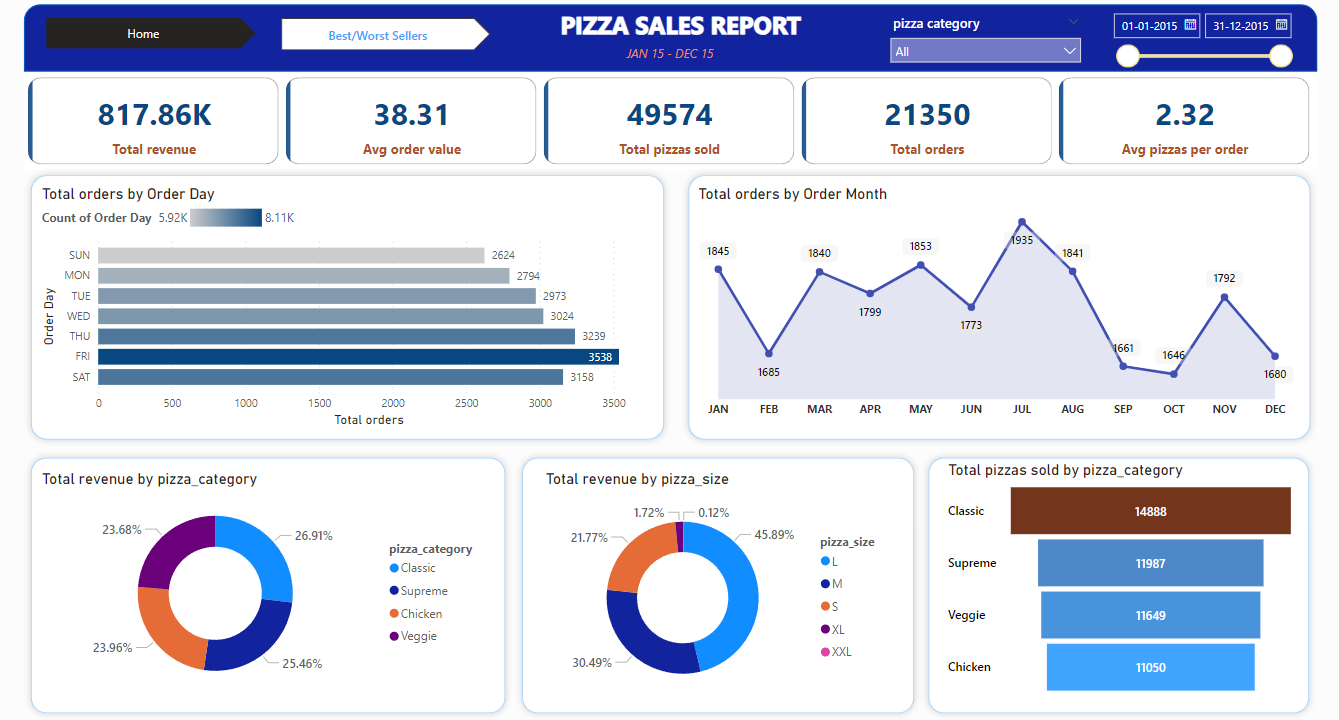

Layout of this report page (visuals, bound fields, positions):
{"tool":"powerbi","page":{"name":"Home","canvas":[1500,820],"ordinal":0},"visuals":[{"type":"cardVisual","fields":{"Data":["pizza_sales.Total revenue","pizza_sales.Avg order value","pizza_sales.Total pizzas sold","pizza_sales.Total orders","pizza_sales.Avg pizzas per order"]},"box":[32,89.1,1440.9,107.2],"z":1000},{"type":"shape","box":[32,12.5,1440.9,75.2],"z":2000},{"type":"textbox","box":[607,12.5,313.2,50.1],"z":3000},{"type":"textbox","box":[693.3,52.9,121.1,34.8],"z":4000},{"type":"shape","box":[32,194.9,721.2,310.5],"z":5000},{"type":"shape","box":[764.3,194.9,708.6,310.5],"z":6000},{"type":"clusteredBarChart","fields":{"Category":["pizza_sales.Order Day"],"Y":["pizza_sales.Total orders"]},"box":[47.3,213,689.1,275.7],"z":7000},{"type":"areaChart","fields":{"Category":["pizza_sales.Order Month"],"Y":["pizza_sales.Total orders"]},"box":[778.2,213,675.2,268.7],"z":8000},{"type":"shape","box":[32,509.5,544.3,300.7],"z":9000},{"type":"shape","box":[579.2,509.5,452.5,300.7],"z":10000},{"type":"shape","box":[1031.6,509.5,439.9,300.7],"z":11000},{"type":"donutChart","fields":{"Category":["pizza_sales.pizza_category"],"Y":["pizza_sales.Total revenue"]},"box":[47.3,530.4,505.4,257.6],"z":12000},{"type":"donutChart","fields":{"Category":["pizza_sales.pizza_size"],"Y":["pizza_sales.Total revenue"]},"box":[608.4,530.4,395.4,267.3],"z":13000},{"type":"funnel","fields":{"Category":["pizza_sales.pizza_category"],"Y":["pizza_sales.Total pizzas sold"]},"box":[1056.7,520.7,396.8,267.3],"z":14000},{"type":"slicer","fields":{"Values":["pizza_sales.pizza_category"]},"box":[987.1,18.1,232.5,65.4],"z":17000},{"type":"slicer","fields":{"Values":["pizza_sales.order_date"]},"box":[1233.5,12.5,220,75.2],"z":18000},{"type":"pageNavigator","box":[57.1,27.8,233.9,34.8],"z":19000},{"type":"pageNavigator","box":[318.8,27.8,233.9,36.2],"z":20000}]}

Visuals, with their boxes in screenshot pixels (x1, y1, x2, y2), scaled from the page's 1500x820 canvas onto the 1339x720 screenshot:
cardVisual - pizza_sales.Total revenue x pizza_sales.Avg order value: x1=29 y1=78 x2=1315 y2=172
shape: x1=29 y1=11 x2=1315 y2=77
textbox: x1=542 y1=11 x2=821 y2=55
textbox: x1=619 y1=46 x2=727 y2=77
shape: x1=29 y1=171 x2=672 y2=444
shape: x1=682 y1=171 x2=1315 y2=444
clusteredBarChart - pizza_sales.Order Day x pizza_sales.Total orders: x1=42 y1=187 x2=657 y2=429
areaChart - pizza_sales.Order Month x pizza_sales.Total orders: x1=695 y1=187 x2=1297 y2=423
shape: x1=29 y1=447 x2=514 y2=711
shape: x1=517 y1=447 x2=921 y2=711
shape: x1=921 y1=447 x2=1314 y2=711
donutChart - pizza_sales.pizza_category x pizza_sales.Total revenue: x1=42 y1=466 x2=493 y2=692
donutChart - pizza_sales.pizza_size x pizza_sales.Total revenue: x1=543 y1=466 x2=896 y2=700
funnel - pizza_sales.pizza_category x pizza_sales.Total pizzas sold: x1=943 y1=457 x2=1297 y2=692
slicer - pizza_sales.pizza_category: x1=881 y1=16 x2=1089 y2=73
slicer - pizza_sales.order_date: x1=1101 y1=11 x2=1297 y2=77
pageNavigator: x1=51 y1=24 x2=260 y2=55
pageNavigator: x1=285 y1=24 x2=493 y2=56
